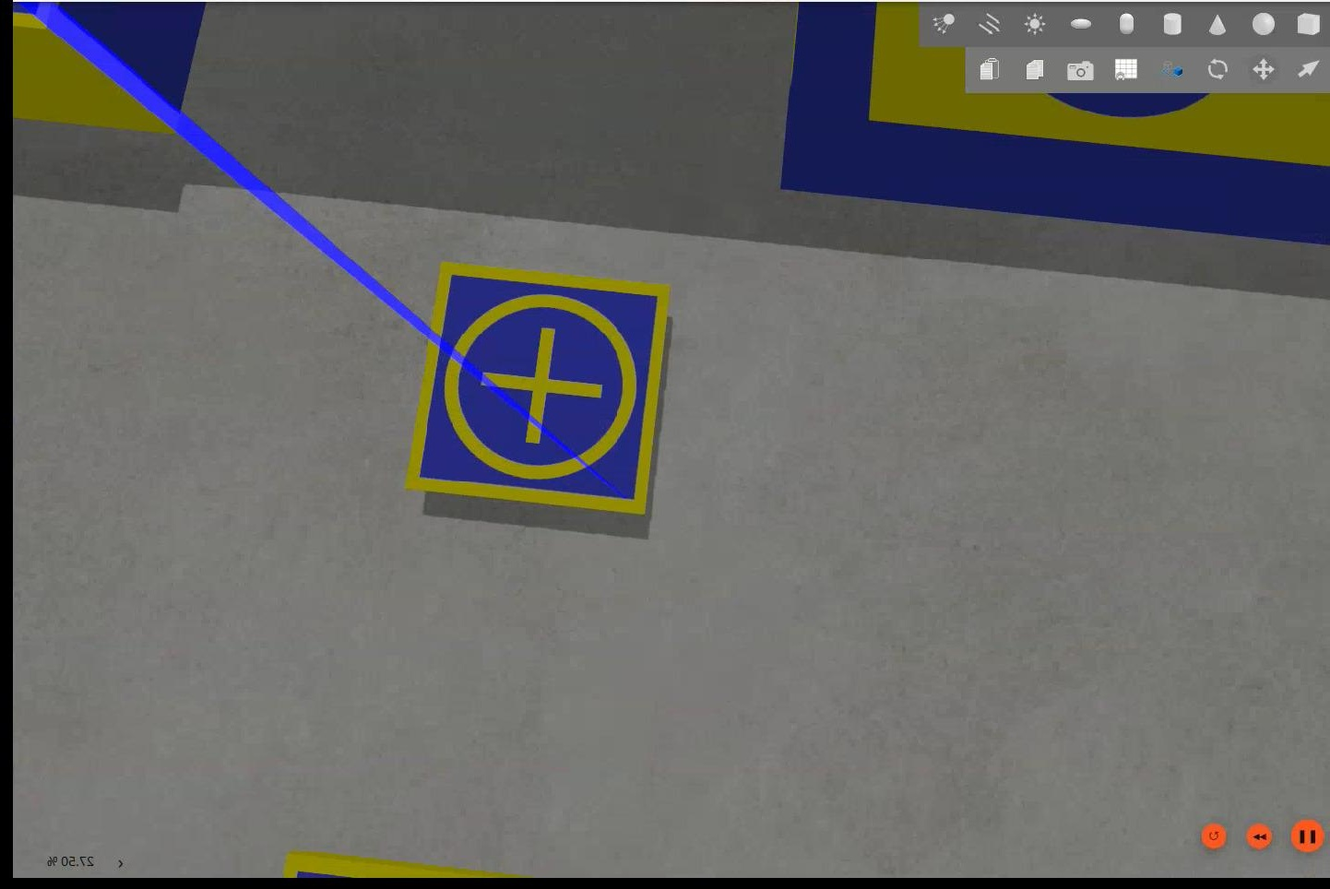large_base: (775, 1, 1328, 251)
small_base: (399, 262, 667, 516)
